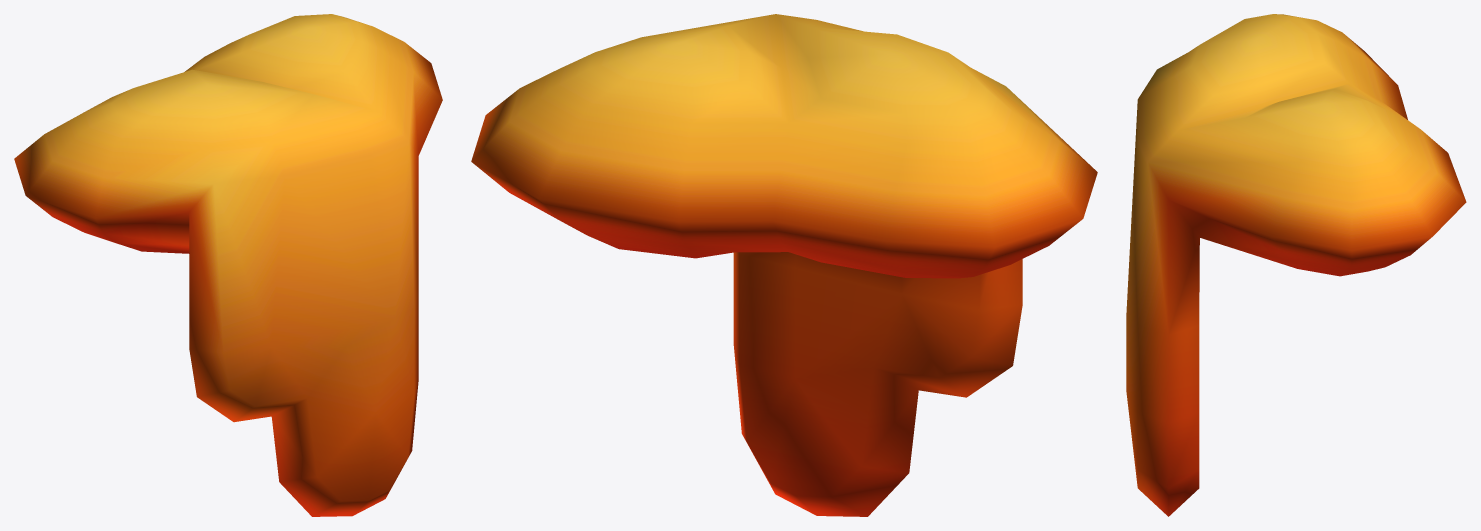
The model's file is m_LavaPuddle04.fbx.
The picture shows the model from 3 angles, left to right: view 1: azimuth 30°, elevation 25°; view 2: azimuth 150°, elevation 25°; view 3: azimuth 270°, elevation 25°; orthographic projection. The views are drawn at different scales.
Visible parts, largest first — view 1: m_LavaPuddle04; view 2: m_LavaPuddle04; view 3: m_LavaPuddle04.
Part boxes in pixels (box(x1,y1,x2,y2)): m_LavaPuddle04: box(14, 14, 442, 516); m_LavaPuddle04: box(471, 14, 1097, 516); m_LavaPuddle04: box(1126, 14, 1466, 516).
Size of the model in its own units: 267 by 246 by 180.
